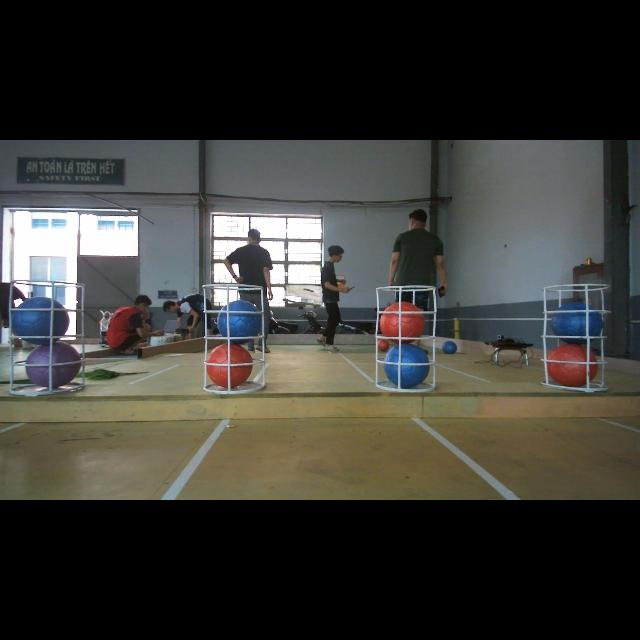B: (10, 298, 70, 342), (551, 302, 603, 343), (216, 299, 264, 343), (384, 344, 428, 388)
R: (546, 344, 598, 386), (206, 344, 252, 388), (381, 302, 425, 342)
